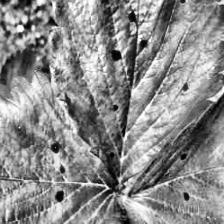Leaf Spot: (47, 0, 224, 187), (0, 70, 123, 224), (119, 83, 224, 224)
